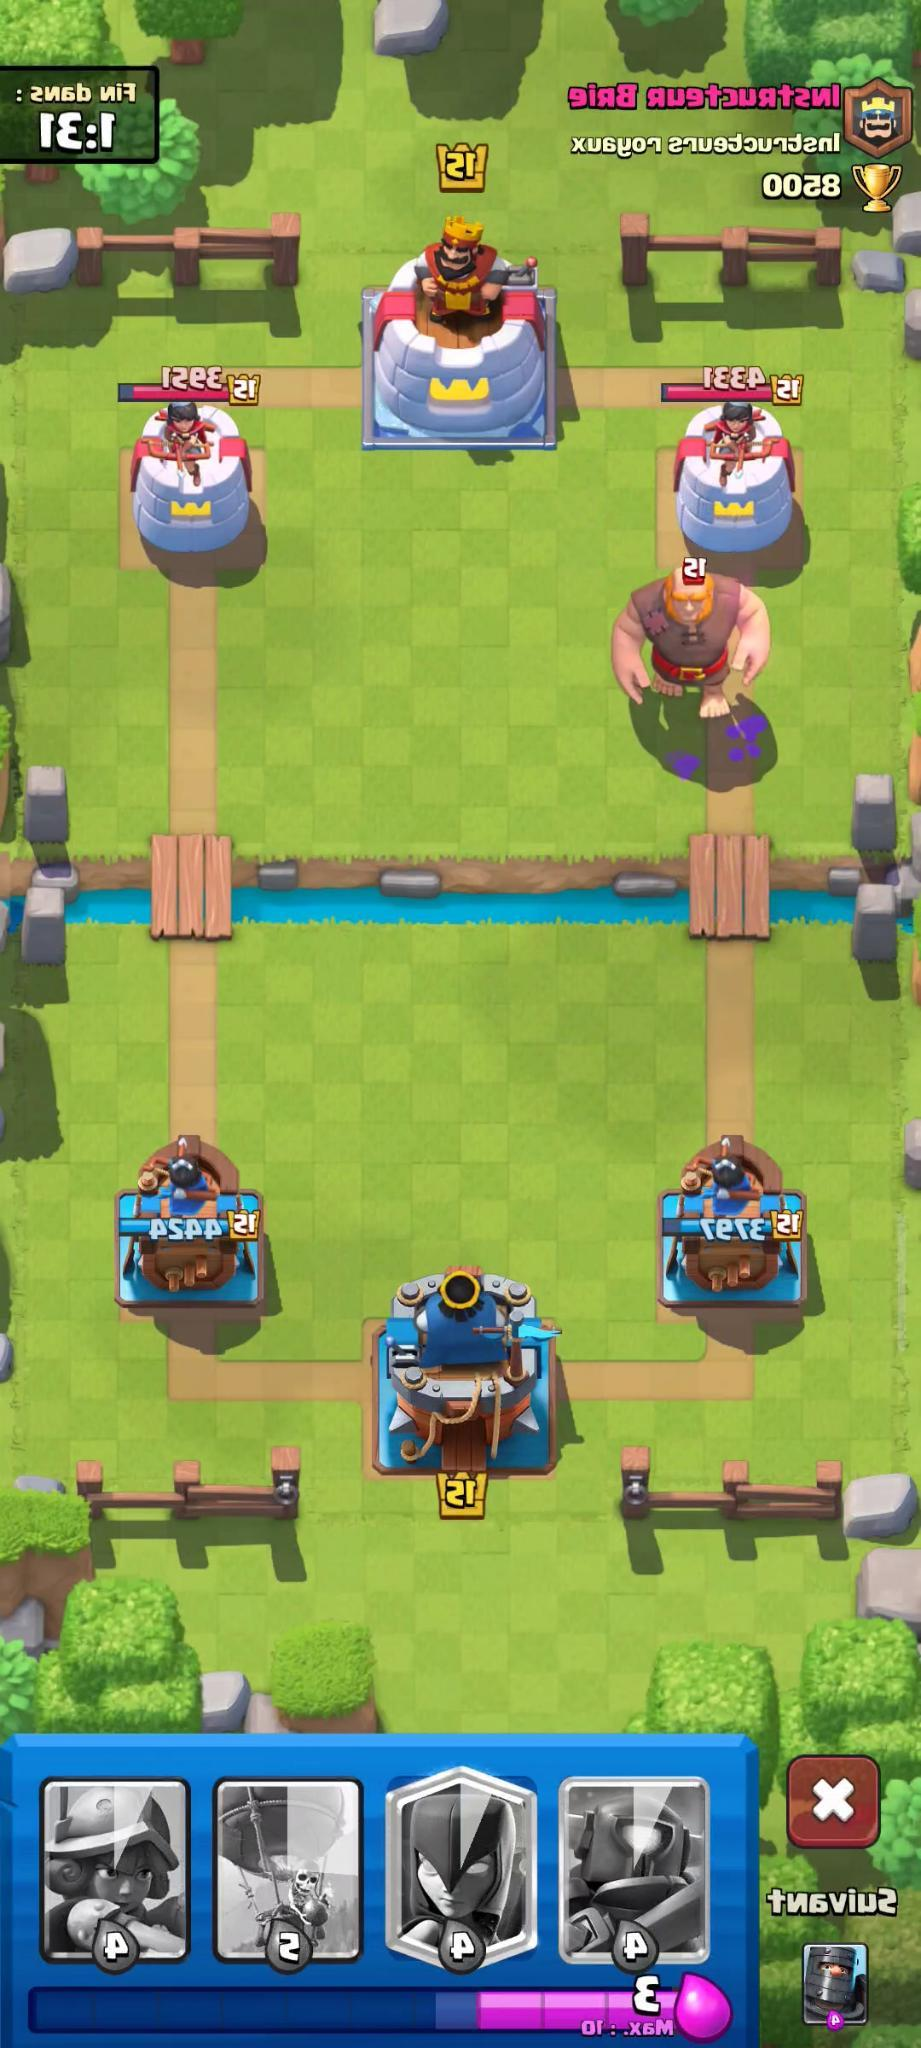enemy_giant: (604, 550, 777, 726)
